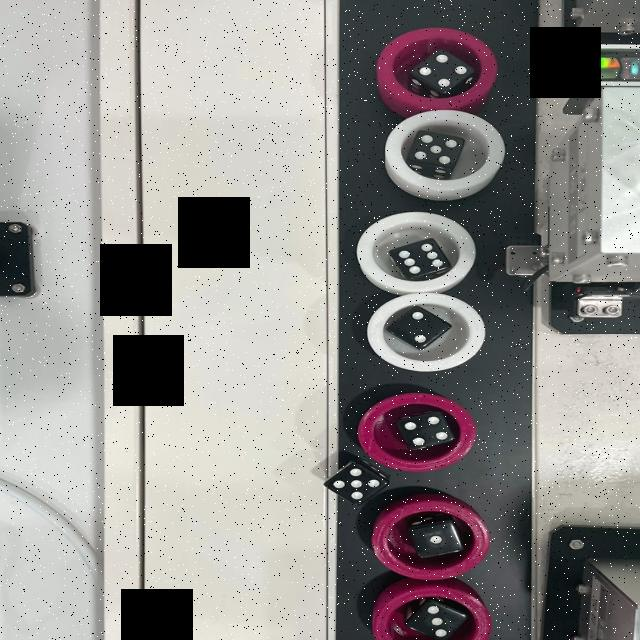DICE1: (414, 529, 456, 555)
DICE2: (396, 312, 438, 342)
DICE3: (415, 606, 457, 640)
DICE4: (397, 414, 451, 452), (414, 54, 468, 87)
DICE5: (413, 132, 459, 168), (334, 466, 382, 500)
DICE6: (391, 242, 448, 274)
RedChip: (370, 502, 494, 580), (377, 28, 491, 108), (358, 394, 472, 469), (376, 590, 488, 640)
WhiteChip: (386, 110, 506, 193), (365, 293, 489, 371), (356, 212, 476, 292)
